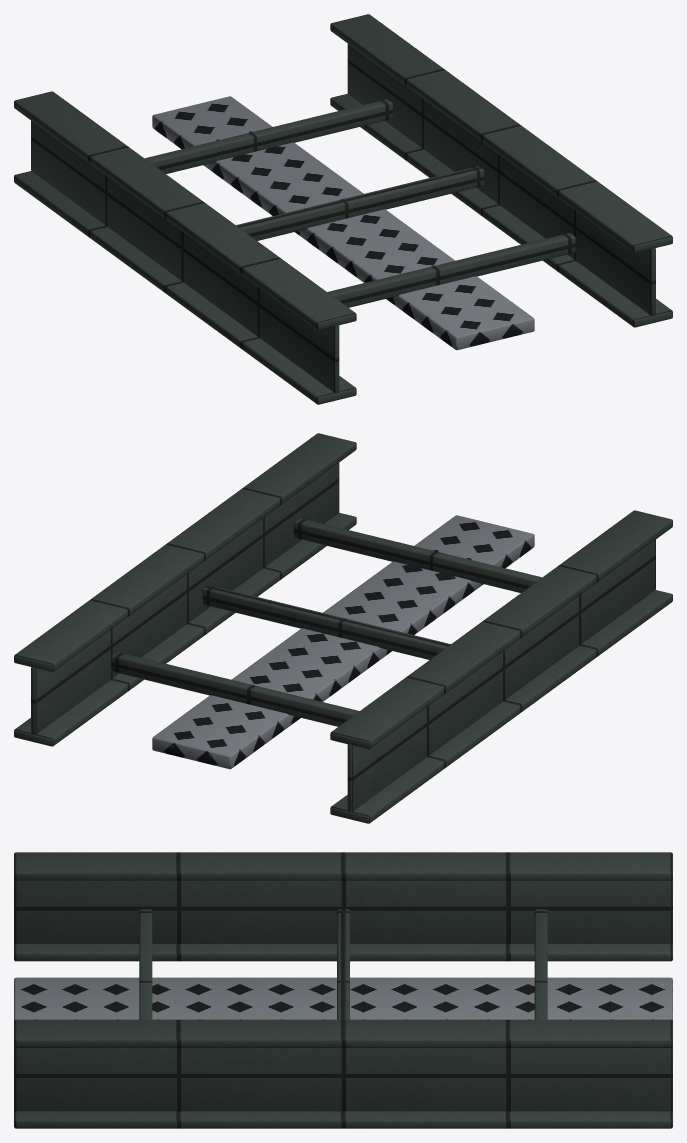
File: WK_CEIL_GIRDER_B_01.glb
The picture shows the model from 3 angles, top to bottom: view 1: azimuth 30°, elevation 25°; view 2: azimuth 150°, elevation 25°; view 3: azimuth 270°, elevation 25°; orthographic projection. The views are drawn at different scales.
Visible parts, largest first — view 1: WK_CEIL_GIRDER_B_01; view 2: WK_CEIL_GIRDER_B_01; view 3: WK_CEIL_GIRDER_B_01.
Part boxes in pixels (x1,y1,x2,y2): WK_CEIL_GIRDER_B_01: (14,14,672,404); WK_CEIL_GIRDER_B_01: (14,433,672,823); WK_CEIL_GIRDER_B_01: (14,852,672,1128).
Size of the model in its own units: 2.7 by 0.6 by 4.
Materials: 3 (2 with a texture image).
